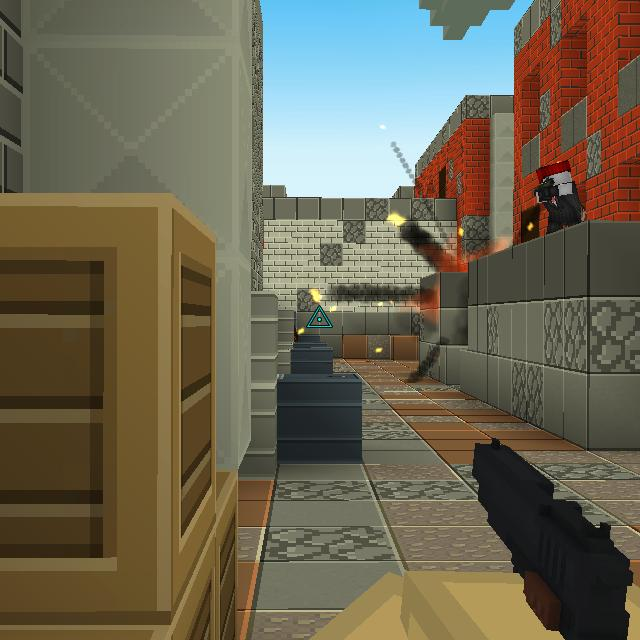enemy: (532, 158, 586, 236)
